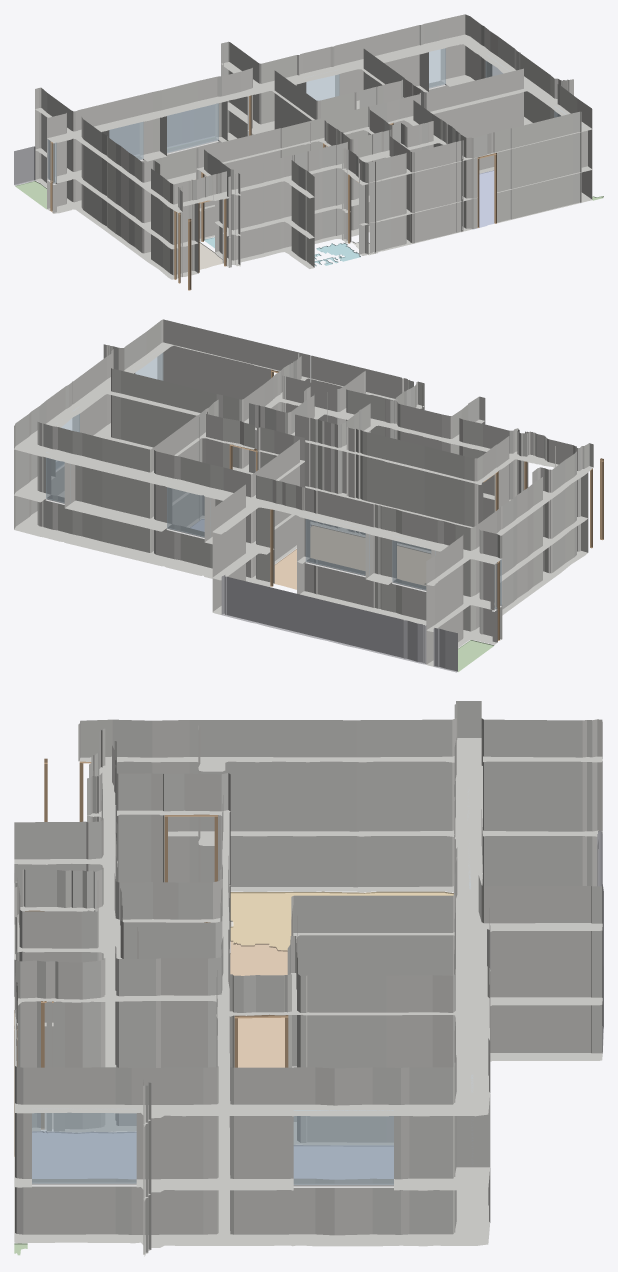
The picture shows the model from 3 angles, top to bottom: view 1: azimuth 30°, elevation 25°; view 2: azimuth 150°, elevation 25°; view 3: azimuth 270°, elevation 25°; orthographic projection. The views are drawn at different scales.
Visible parts, largest first — view 1: walls, railings, window_16, floor_5_Bed_Room, window_15, window_13, window_14, floor_2_Outdoor, door_12, floor_10_Bath, door_8, floor_13_Entry; view 2: walls, railings, floor_4_Living_Room, window_16, window_13, window_15, window_14, floor_2_Outdoor; view 3: walls, window_20, window_19, floor_5_Bed_Room, floor_4_Living_Room, floor_3_Kitchen, floor_6_Bed_Room.
Part boxes in pixels (<box>): walls: <box>35,14,592,279</box>; railings: <box>14,104,214,185</box>; window_16: <box>167,103,218,152</box>; floor_5_Bed_Room: <box>472,170,580,229</box>; window_15: <box>109,122,143,159</box>; window_13: <box>306,70,339,100</box>; window_14: <box>429,48,445,87</box>; floor_2_Outdoor: <box>15,181,46,209</box>; door_12: <box>477,153,496,227</box>; floor_10_Bath: <box>316,243,360,261</box>; door_8: <box>174,211,180,283</box>; floor_13_Entry: <box>199,242,222,269</box>; walls: <box>14,319,593,666</box>; railings: <box>221,575,457,672</box>; floor_4_Living_Room: <box>274,525,430,589</box>; window_16: <box>305,519,369,575</box>; window_13: <box>167,487,210,536</box>; window_15: <box>392,536,435,589</box>; window_14: <box>46,452,64,502</box>; floor_2_Outdoor: <box>458,640,494,671</box>; walls: <box>14,701,602,1256</box>; window_20: <box>32,1112,136,1183</box>; window_19: <box>293,1110,393,1184</box>; floor_5_Bed_Room: <box>32,1131,136,1178</box>; floor_4_Living_Room: <box>230,940,287,1067</box>; floor_3_Kitchen: <box>230,891,453,950</box>; floor_6_Bed_Room: <box>294,1145,393,1179</box>.
Size of the model in its own units: 13.53 by 2.72 by 8.65.
